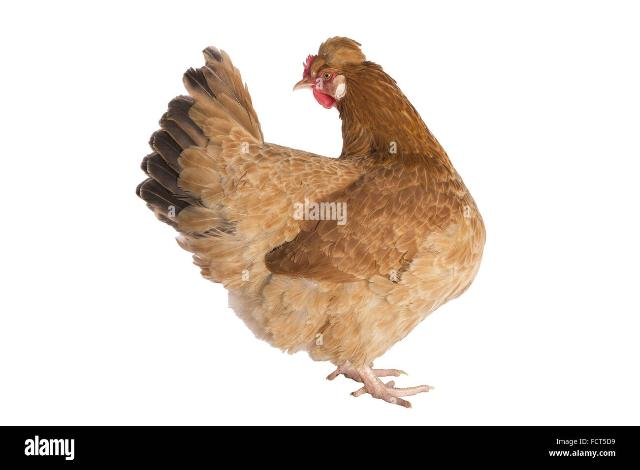Chicken: (136, 38, 486, 410)
